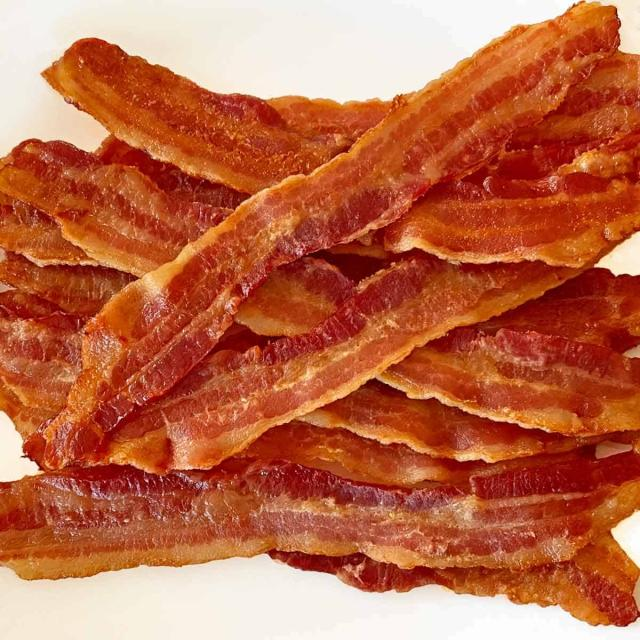Bacon: (36, 4, 620, 469), (109, 252, 580, 471), (129, 254, 578, 471), (0, 449, 640, 579), (44, 39, 390, 194), (0, 140, 231, 276), (299, 380, 588, 462)
